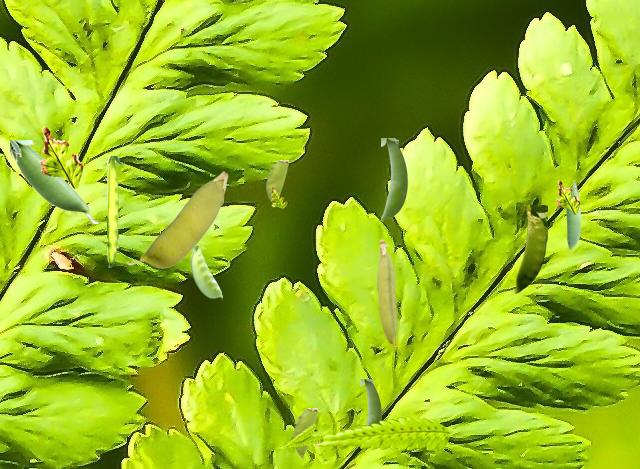pea: (126, 171, 227, 267), (10, 140, 97, 222), (510, 205, 546, 292), (377, 238, 396, 348), (381, 138, 406, 220), (107, 156, 123, 266), (190, 246, 221, 300), (293, 408, 316, 457), (360, 379, 380, 424), (566, 180, 579, 248), (266, 160, 287, 202)
